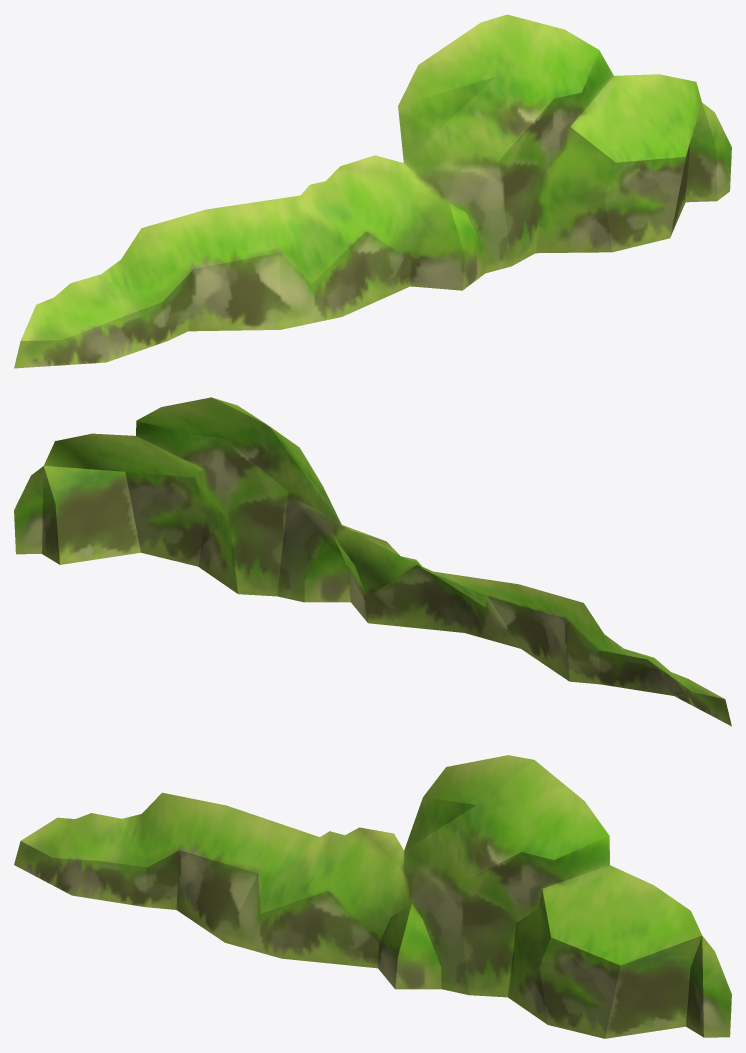
The model's file is OM_S01_ny_rock01BB.fbx.
3 views of the same model, one above another, from view 1: azimuth 30°, elevation 25°; view 2: azimuth 150°, elevation 25°; view 3: azimuth 330°, elevation 25° (orthographic).
Parts seen in each view (by area): view 1: OM_S01_ny_rock01BB; view 2: OM_S01_ny_rock01BB; view 3: OM_S01_ny_rock01BB.
Boxes of the visible parts, x1,y1,x2,y2 form: OM_S01_ny_rock01BB: (14,14,731,368); OM_S01_ny_rock01BB: (14,397,731,726); OM_S01_ny_rock01BB: (14,755,731,1038).
Bounding box in the file's own units: 844 × 245 × 97.02.
